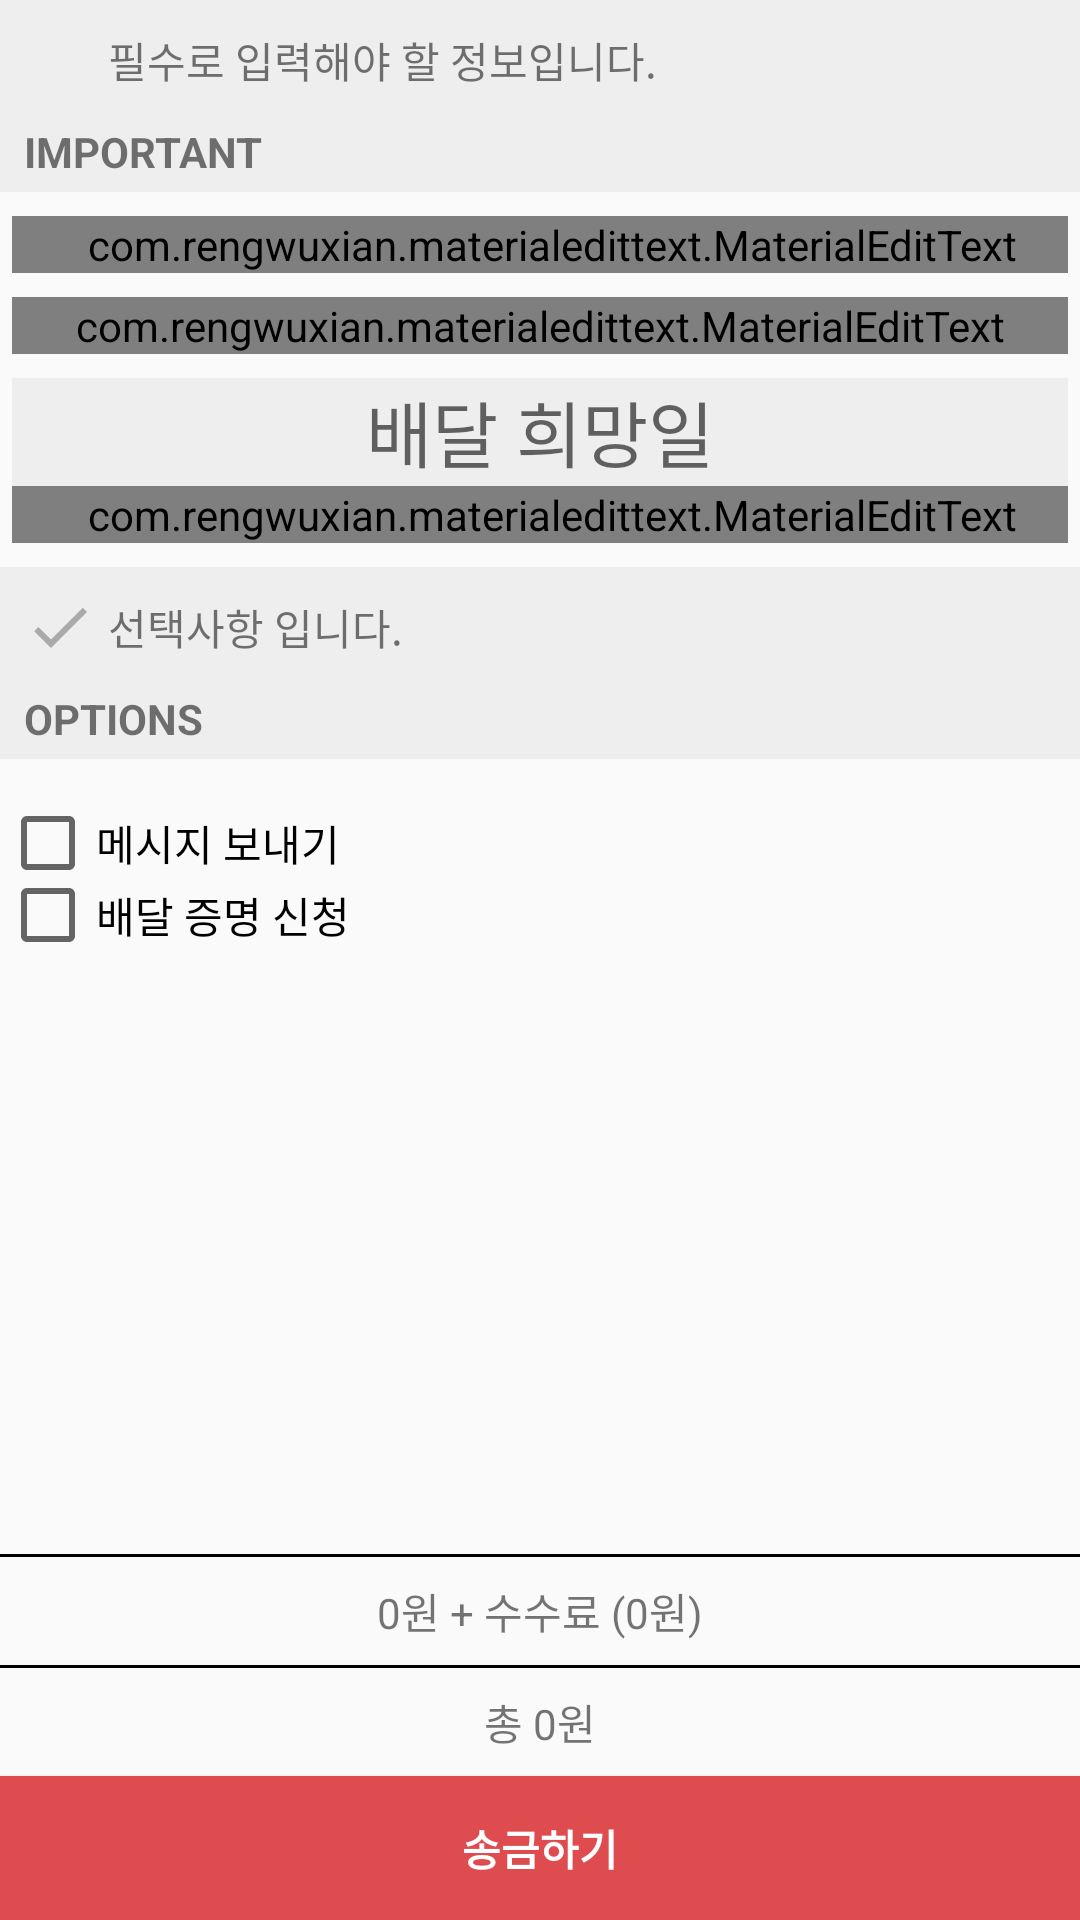

Where to tap for icons on this 1080px×1920px app screen, as point (x, y):
done: point (60, 628)
